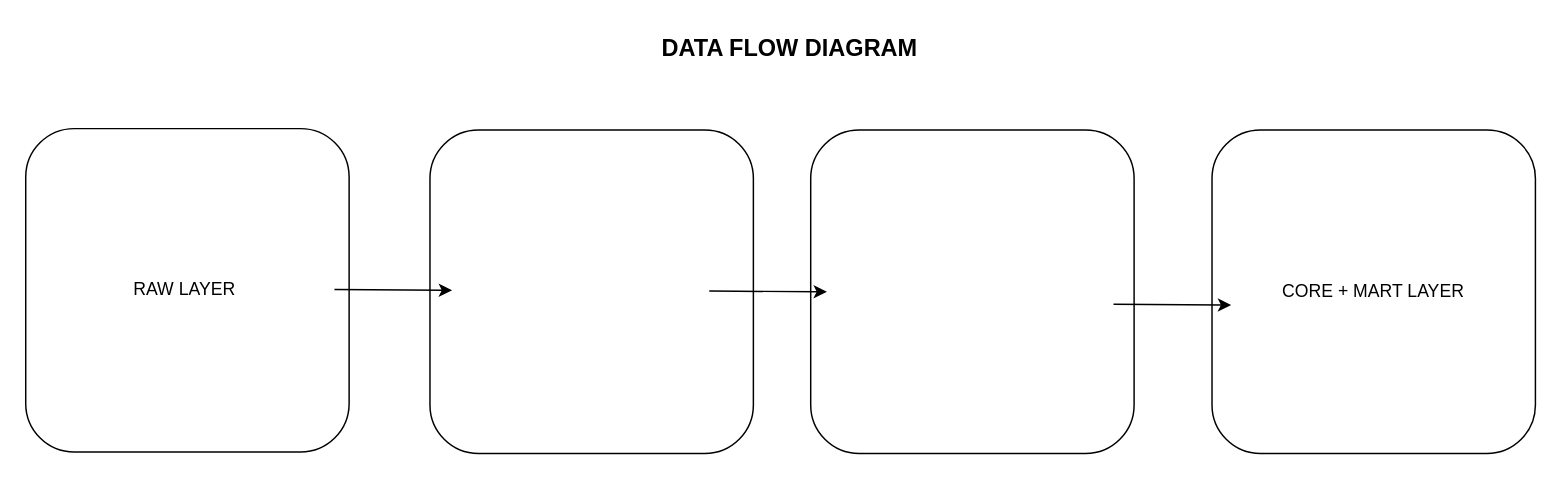
This 1561x479 diagram has some shape labels left out. The shapes that lost their labels are listed below. From the top down, each one's centre as x and y in pixels, then its label:
At [591,291]: "STAGING LAYER".
At [971,291]: "INTERMEDIATE LAYER".
